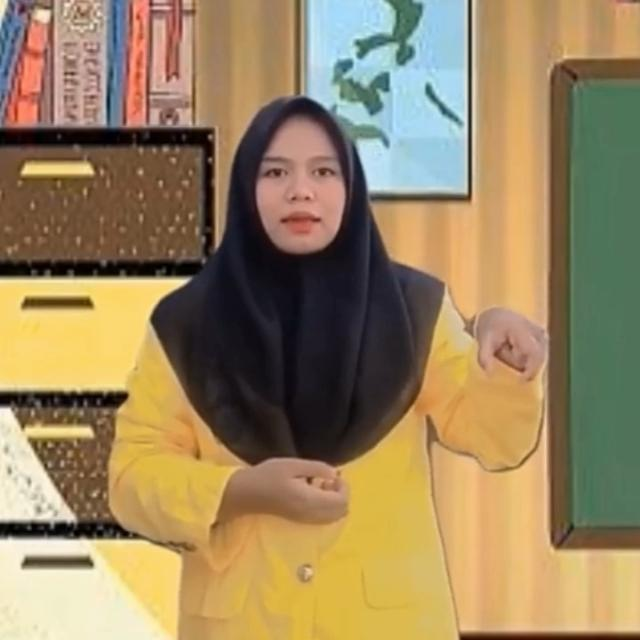Q: (470, 304, 550, 390)
